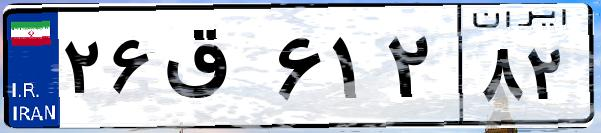1: (330, 28, 385, 110)
2: (385, 28, 445, 110), (57, 26, 110, 100), (525, 38, 570, 115)
6: (270, 28, 330, 110), (110, 28, 158, 98)
8: (475, 38, 525, 113)
ق: (158, 20, 270, 120)
